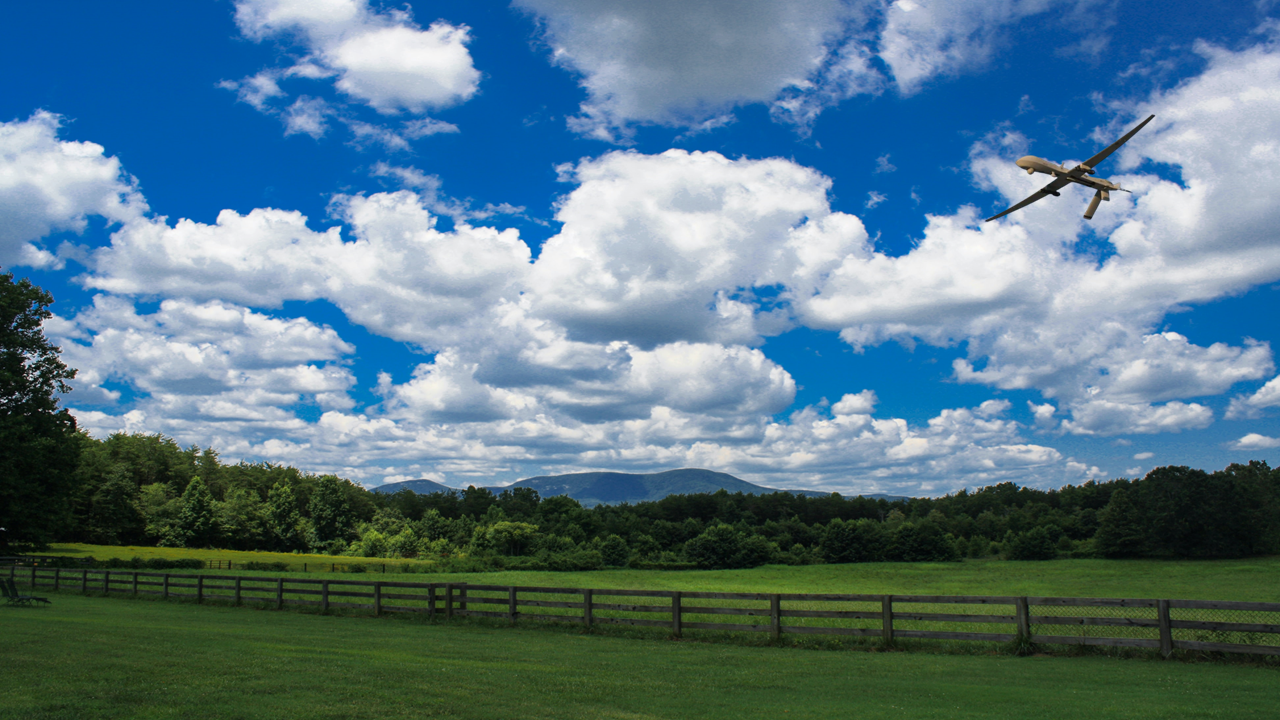military drone: (984, 114, 1155, 221)
